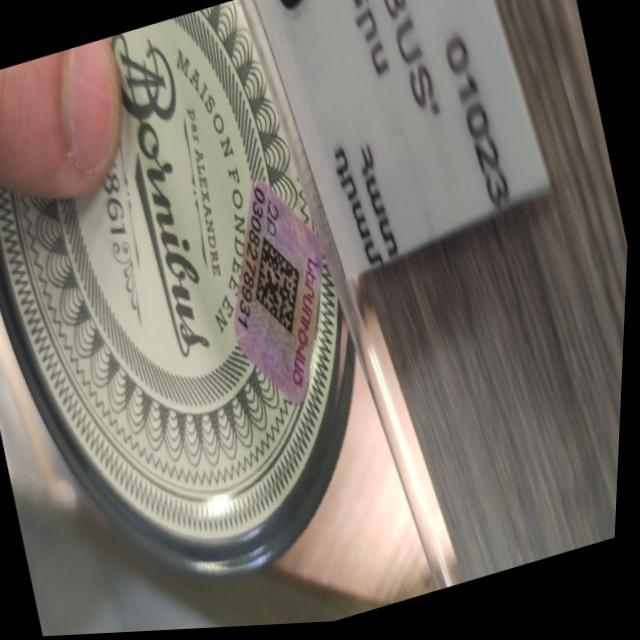datamatrix: (240, 227, 321, 348)
